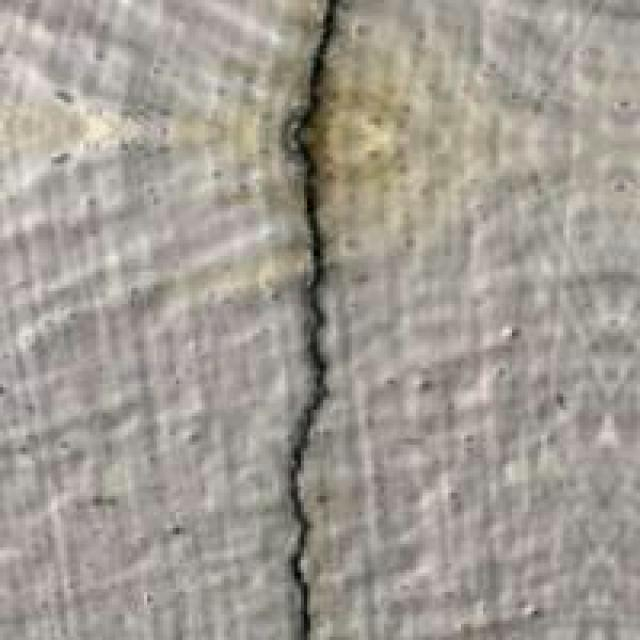crack: (234, 0, 400, 638)
